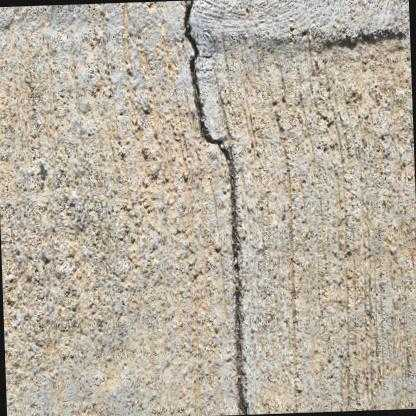crack: (183, 0, 249, 415)
